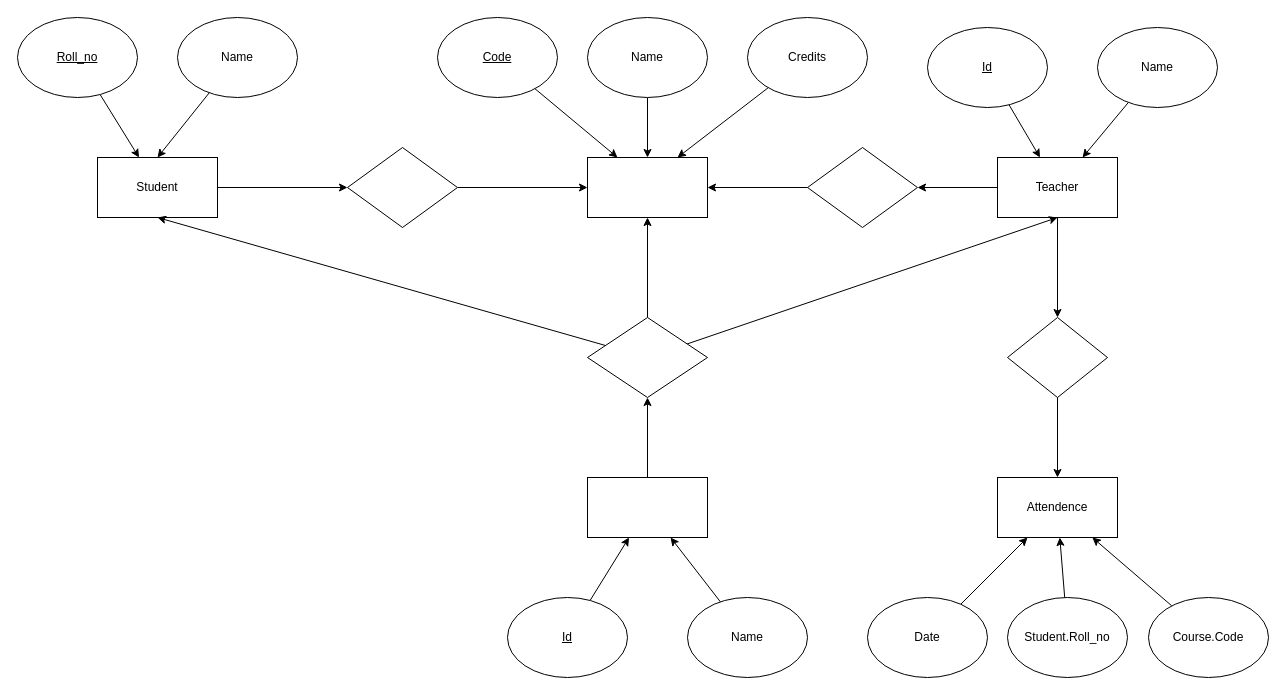
Some shapes in this 1286 by 695 pixel diagram are drawn without their labels. The box of each missing label's shape, as (x1, y1, x2, y2) in pixels:
Adds/removes: (586, 316, 708, 398)
Admin: (586, 476, 708, 538)
Course: (586, 156, 708, 218)
Enrolls to: (346, 146, 458, 228)
Takes: (1006, 316, 1108, 398)
Teaches: (806, 146, 918, 228)
